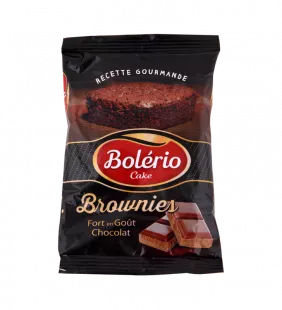Promotion: (51, 27, 229, 285)
